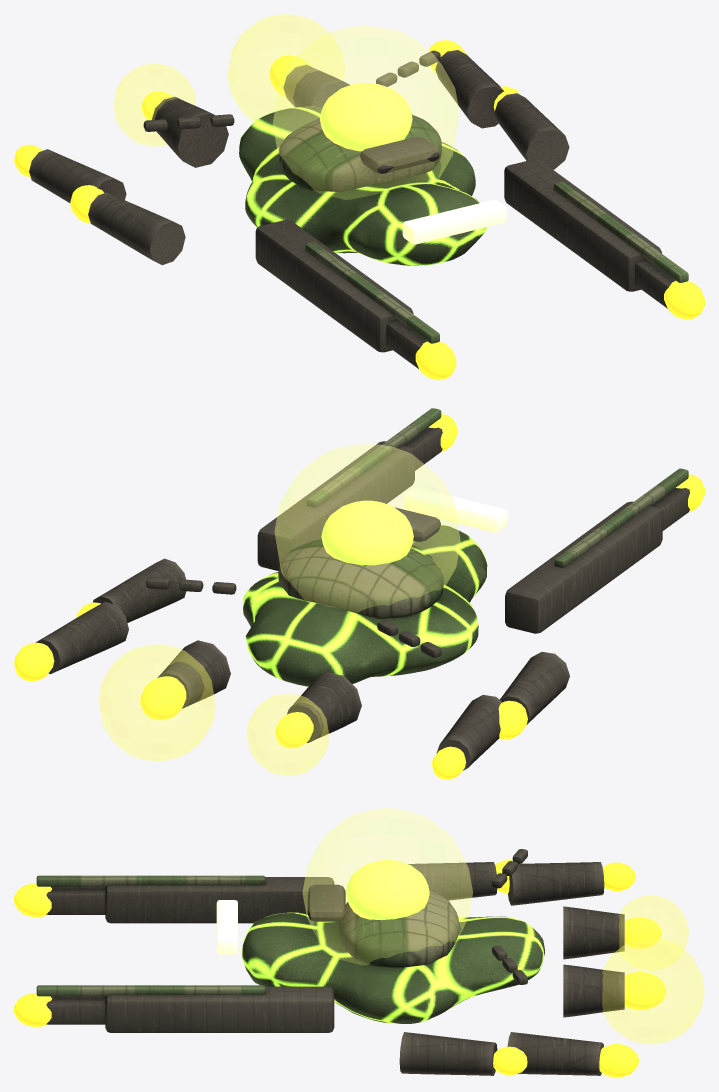
File: enemy_drone.glb
3 views of the same model, one above another, from view 1: azimuth 30°, elevation 25°; view 2: azimuth 150°, elevation 25°; view 3: azimuth 270°, elevation 25° (orthographic). The views are drawn at different scales.
Parts seen in each view (by area): view 1: hull, Sphere.001, Sphere.011, Sphere, Sphere.009, Cube.013, Sphere.003, Sphere.002, Sphere.010, Sphere.006; view 2: hull, Sphere.001, Sphere.011, Sphere.009, Sphere, Cube.013, Sphere.010, Sphere.005, Sphere.008, Sphere.006, Sphere.007; view 3: hull, Sphere.001, Sphere.011, Sphere, Sphere.009, Sphere.010, Cube.013, Sphere.005, Sphere.003, Sphere.002, Sphere.008, Sphere.004 (+1 smaller).
Boxes of the visible parts, box(x1,y1,x2,y2) form: hull: box(29, 50, 688, 368); Sphere.001: box(273, 26, 459, 199); Sphere.011: box(228, 14, 344, 121); Sphere: box(320, 83, 412, 151); Sphere.009: box(113, 64, 195, 146); Cube.013: box(402, 199, 506, 244); Sphere.003: box(415, 341, 456, 379); Sphere.002: box(664, 281, 704, 319); Sphere.010: box(269, 55, 310, 97); Sphere.006: box(70, 185, 104, 223); hull: box(35, 408, 689, 770); Sphere.001: box(275, 444, 460, 612); Sphere.011: box(99, 644, 215, 761); Sphere.009: box(247, 694, 329, 775); Sphere: box(321, 500, 413, 565); Cube.013: box(404, 488, 507, 532); Sphere.010: box(140, 676, 186, 720); Sphere.005: box(14, 642, 54, 681); Sphere.008: box(275, 712, 313, 748); Sphere.006: box(498, 700, 527, 739); Sphere.007: box(432, 746, 466, 779); hull: box(36, 849, 624, 1075); Sphere.001: box(302, 808, 472, 964); Sphere.011: box(602, 938, 704, 1043); Sphere: box(346, 860, 429, 920); Sphere.009: box(619, 895, 688, 970); Sphere.010: box(624, 972, 665, 1009); Cube.013: box(216, 900, 237, 954); Sphere.005: box(599, 1044, 639, 1077); Sphere.003: box(14, 883, 51, 917); Sphere.002: box(14, 993, 51, 1026); Sphere.008: box(624, 917, 661, 948); Sphere.004: box(493, 1046, 527, 1075).
Bounding box in the file's own units: 1.23 × 0.5643 × 1.81.
8 materials, 2 textured.
